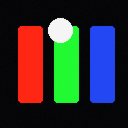2 circle: (48, 18, 72, 42)
